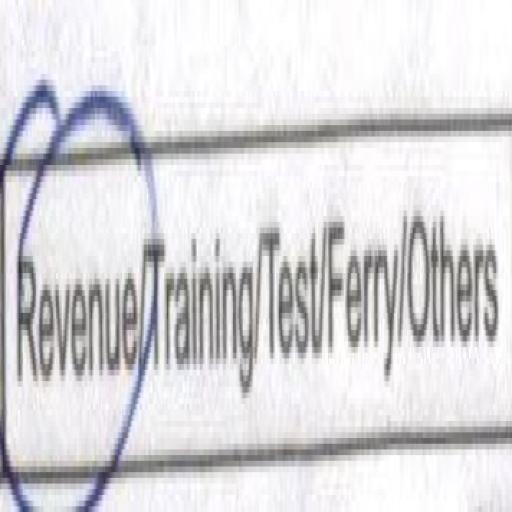check: (3, 17, 141, 512)
